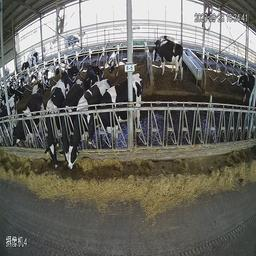cow: (98, 72, 143, 132), (71, 83, 92, 181), (10, 93, 41, 154), (151, 38, 189, 81), (44, 74, 57, 172), (234, 64, 254, 113), (60, 75, 69, 175), (16, 53, 40, 73), (102, 46, 120, 71)
